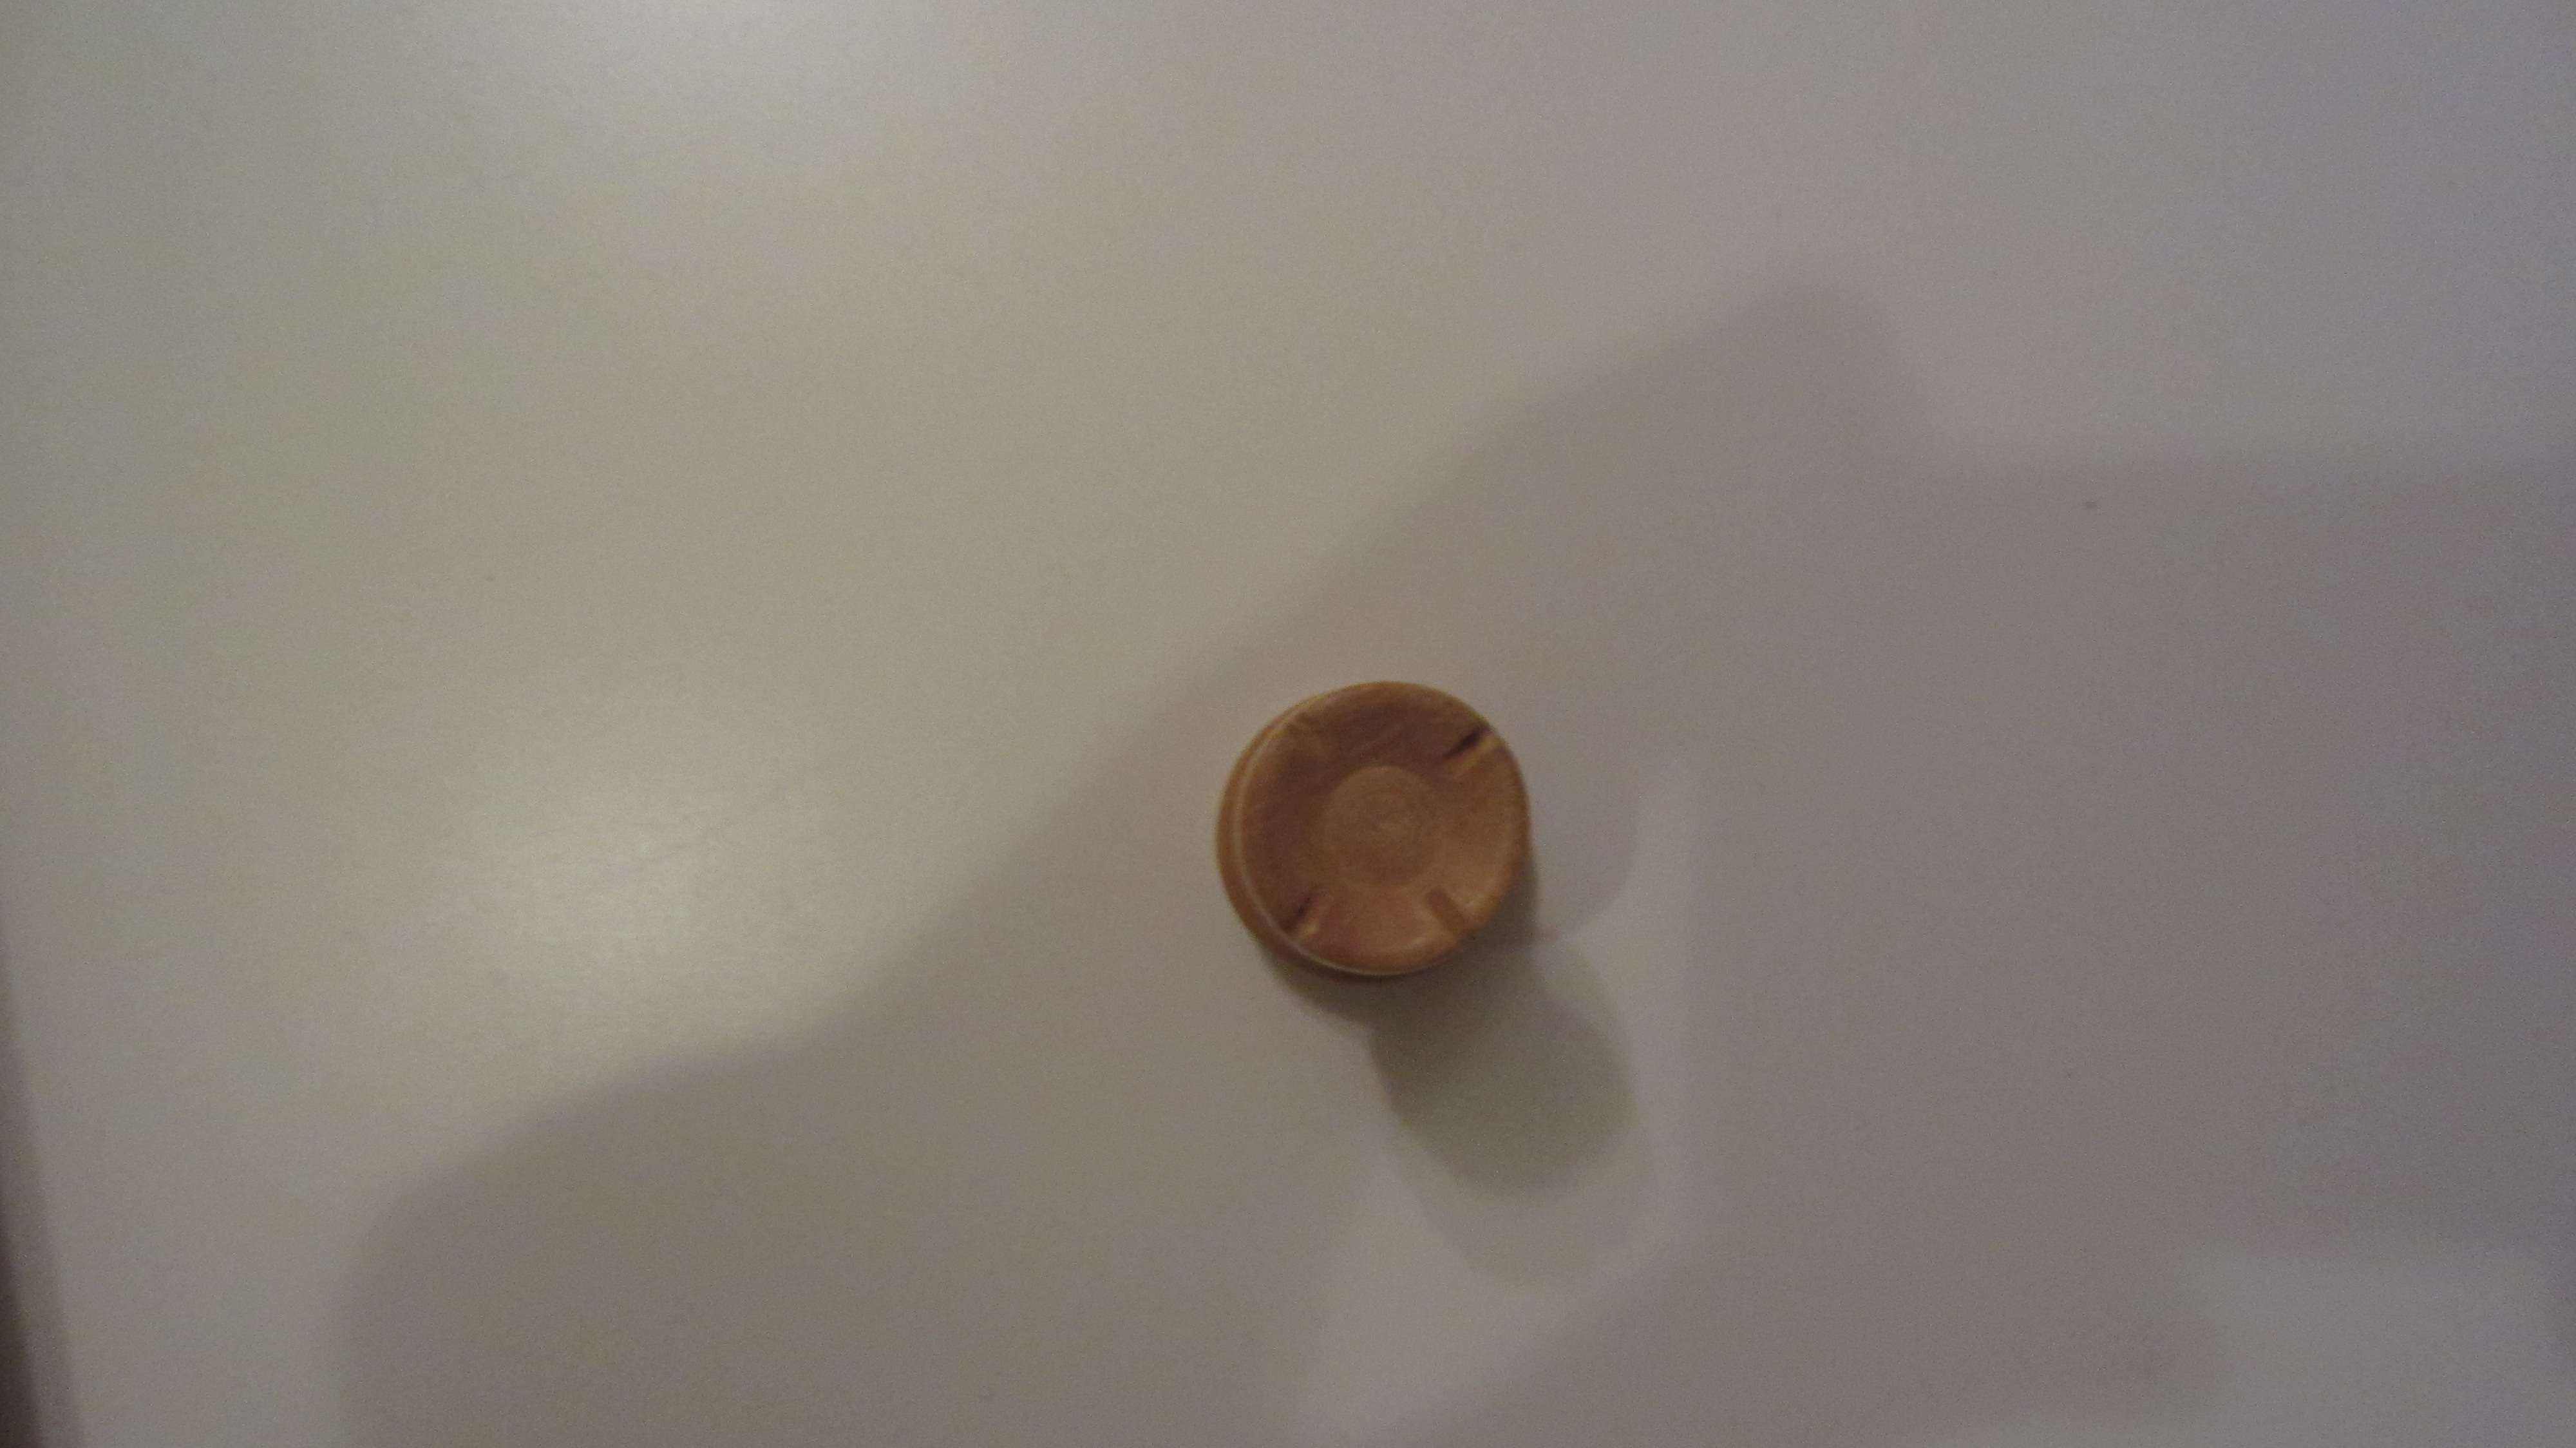white-rook: (1210, 678, 1534, 986)
